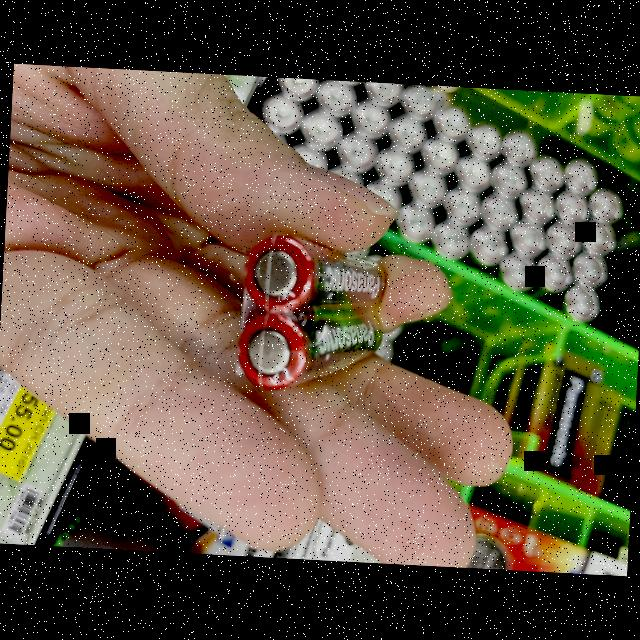battery: (228, 296, 401, 403), (235, 228, 408, 316)
